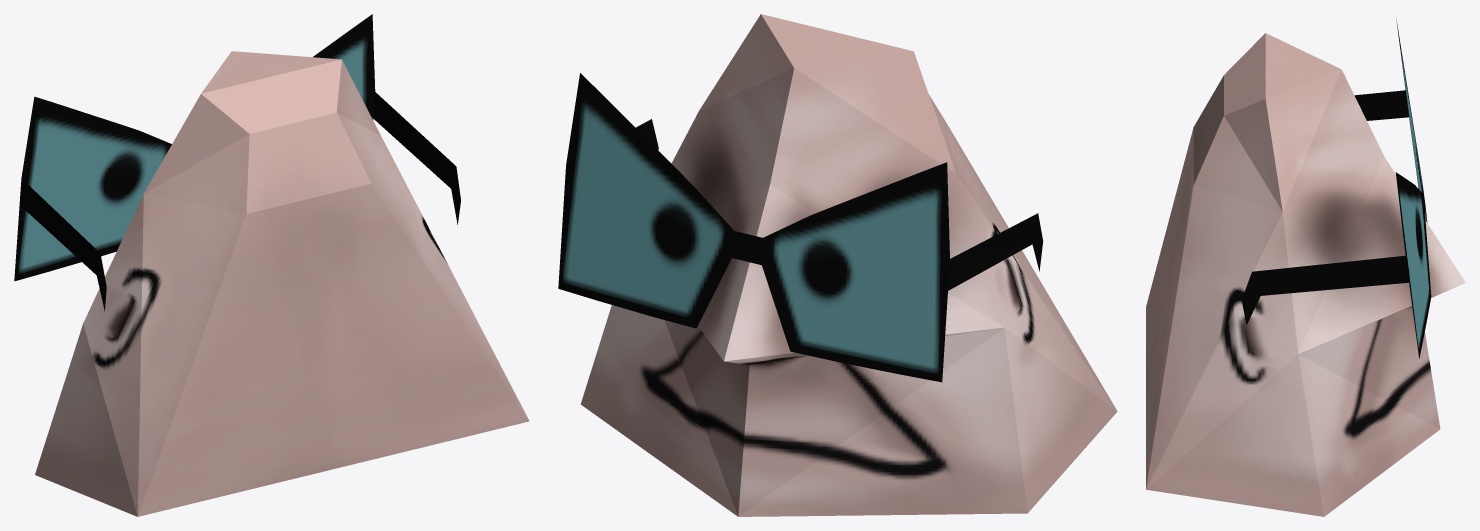
Rendered from Spunky.glb.
The picture shows the model from 3 angles, left to right: view 1: azimuth 30°, elevation 25°; view 2: azimuth 150°, elevation 25°; view 3: azimuth 270°, elevation 25°; orthographic projection. The views are drawn at different scales.
Parts seen in each view (by area): view 1: flunky; view 2: flunky; view 3: flunky.
Part boxes in pixels (<box>): flunky: <box>14,14,529,516</box>; flunky: <box>558,14,1117,516</box>; flunky: <box>1146,17,1465,516</box>.
Bounding box in the file's own units: 2.44 × 2.15 × 1.71.
Materials: 1 (1 with a texture image).
